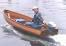fishing boat: (1, 3, 60, 40)
